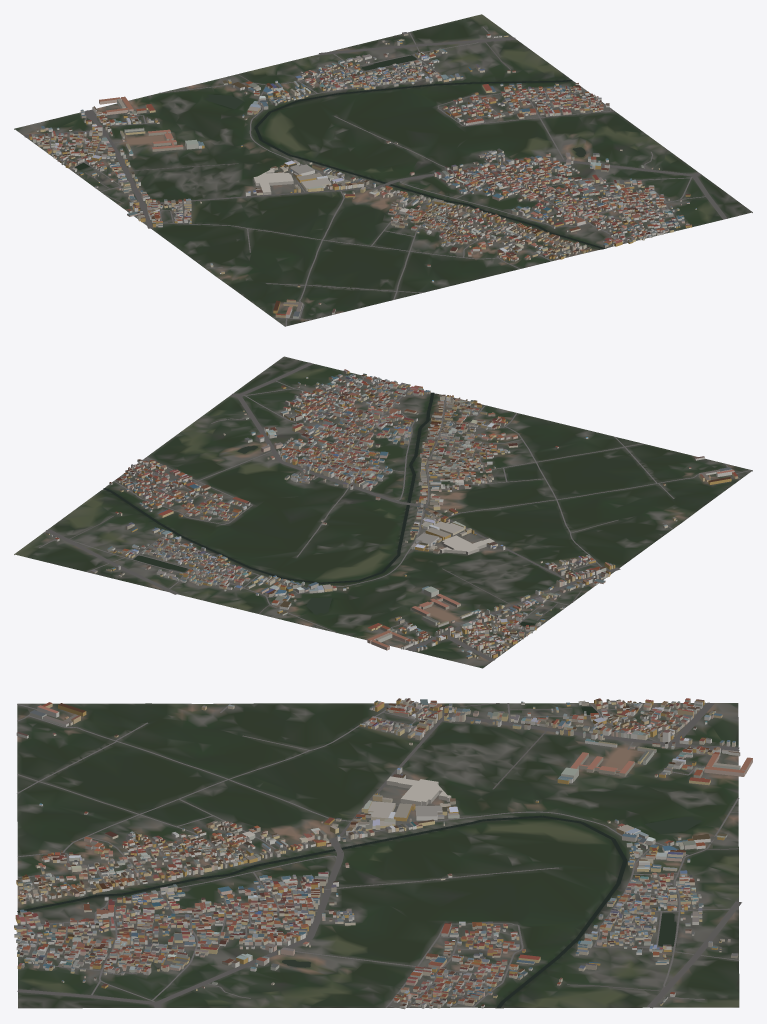
The picture shows the model from 3 angles, top to bottom: view 1: azimuth 30°, elevation 25°; view 2: azimuth 150°, elevation 25°; view 3: azimuth 270°, elevation 25°; orthographic projection. The views are drawn at different scales.
Parts seen in each view (by area): view 1: ground, buildings, roads, water; view 2: ground, buildings, roads, water; view 3: ground, buildings, roads, water.
Part boxes in pixels (x1,y1,x2,y2): ground: [14, 14, 752, 326]; buildings: [29, 32, 696, 318]; roads: [24, 26, 727, 326]; water: [75, 55, 604, 249]; ground: [14, 356, 752, 668]; buildings: [46, 369, 737, 658]; roads: [39, 362, 751, 661]; water: [103, 392, 534, 626]; ground: [17, 703, 739, 1008]; buildings: [14, 698, 752, 1009]; roads: [17, 702, 741, 1008]; water: [17, 706, 702, 1008].
Size of the model in its own units: 1419 by 26.38 by 1436.
